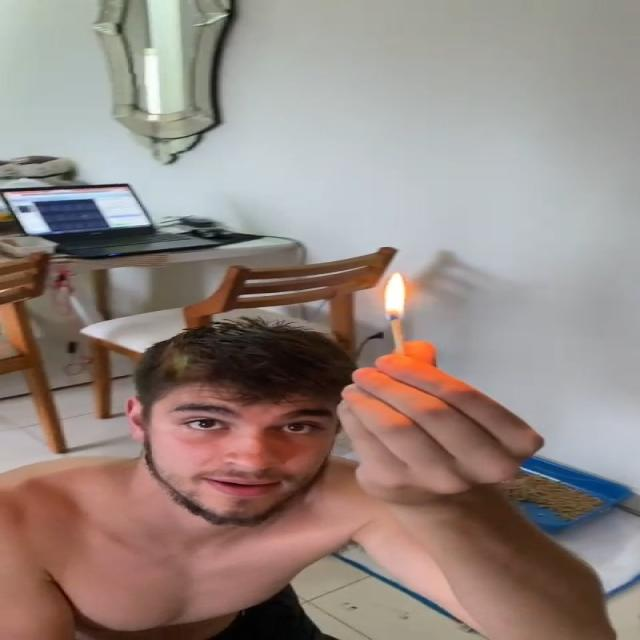fogo-ypXI: (382, 271, 407, 322)
